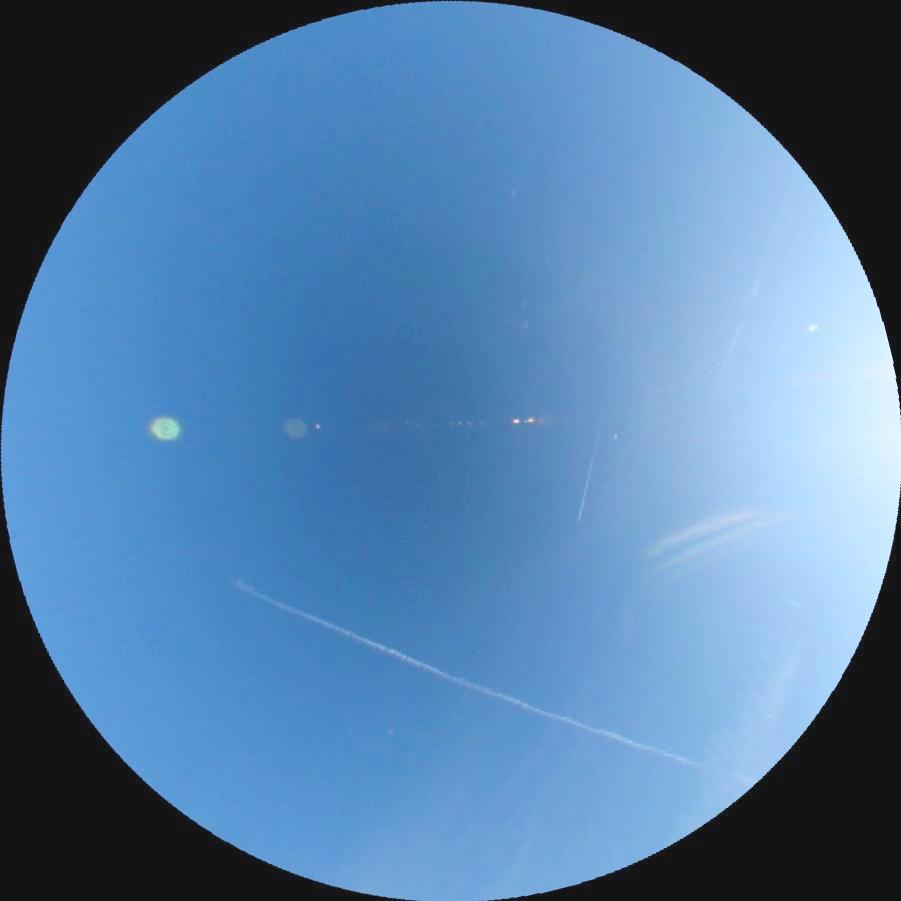contrail old: (215, 573, 756, 796), (712, 166, 799, 395)
contrail young: (574, 425, 602, 522), (788, 597, 799, 608)
unknow: (632, 497, 766, 565)
